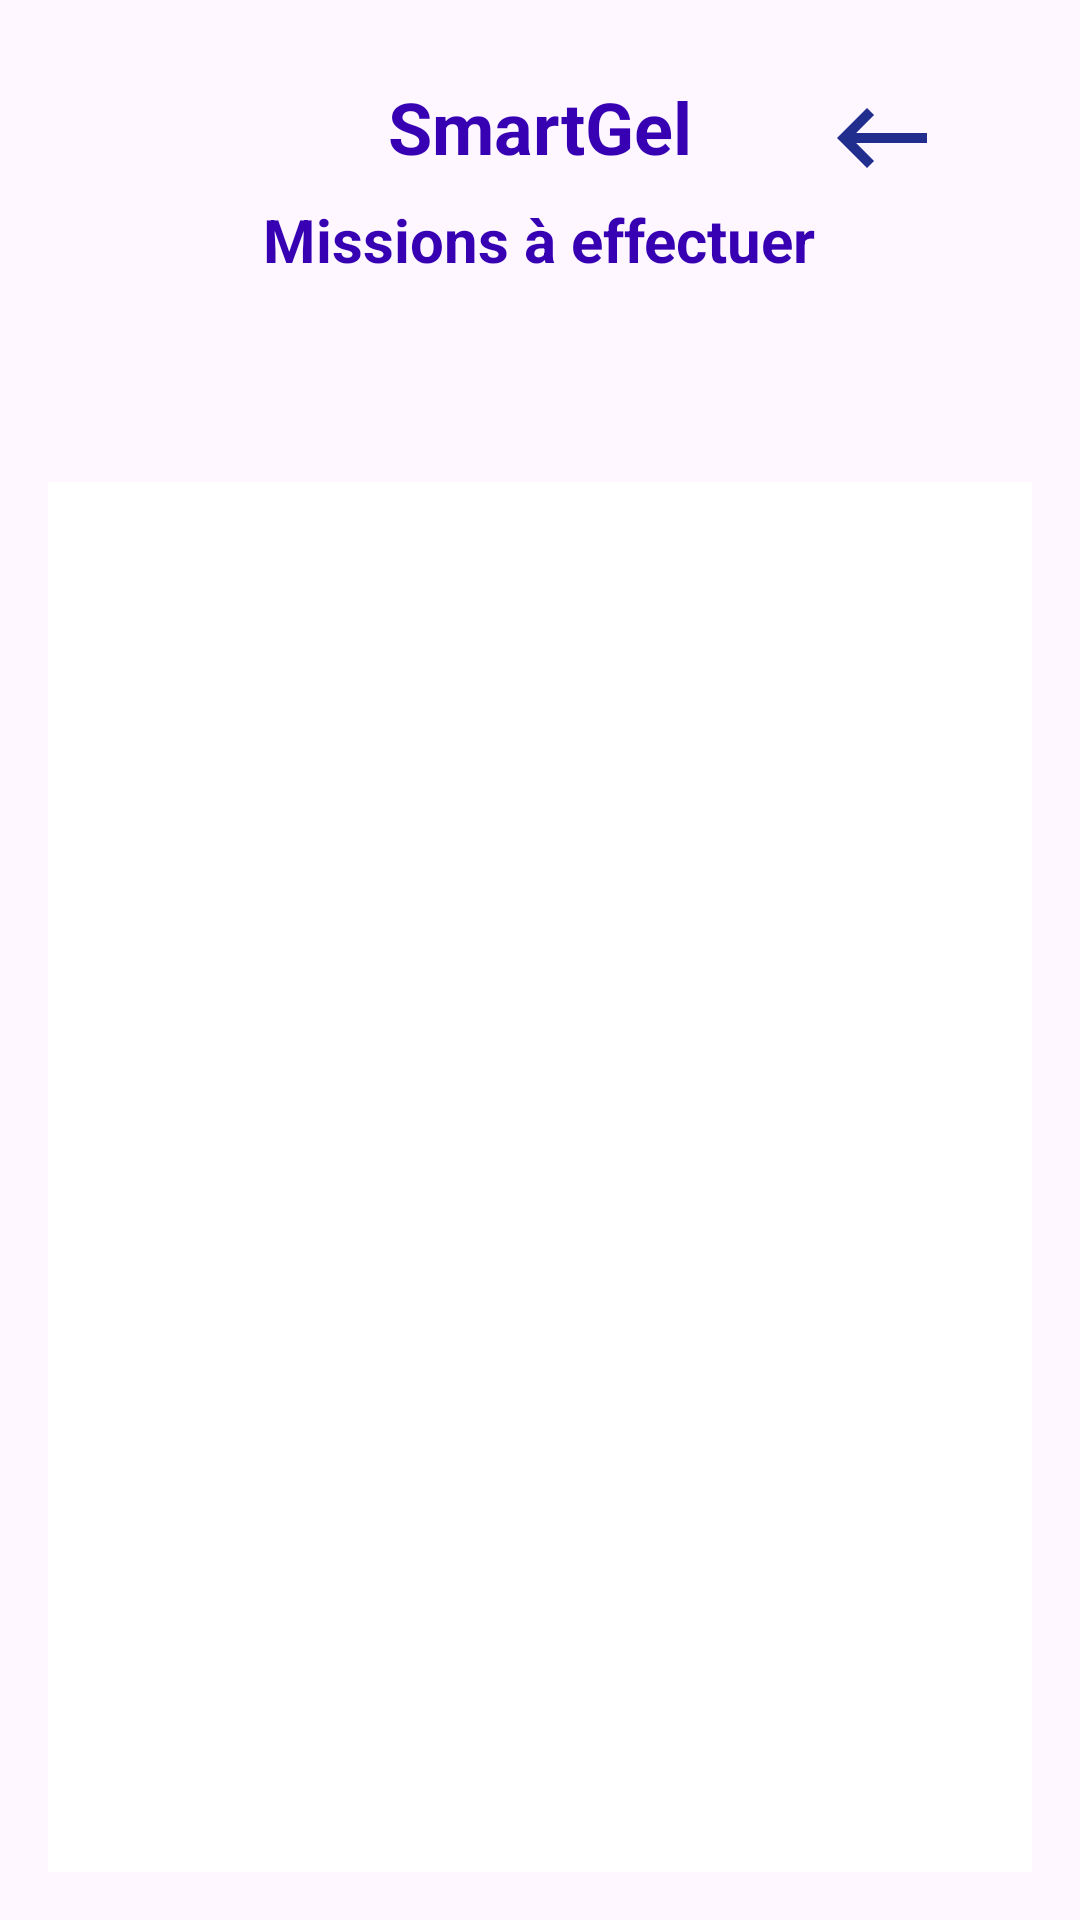

Icons on this 1080px×1920px Android screen, each with its box as box=[x1, y1, x2, y2]:
back: box=[837, 108, 927, 168]
